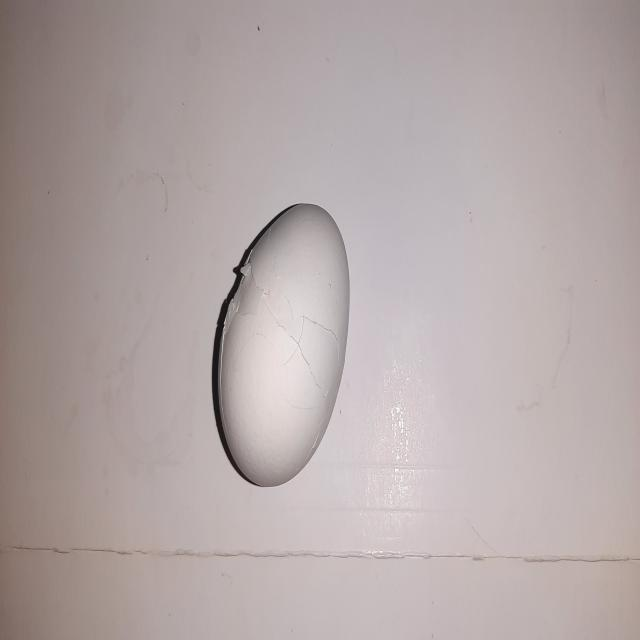egg shell: (210, 193, 356, 492)
